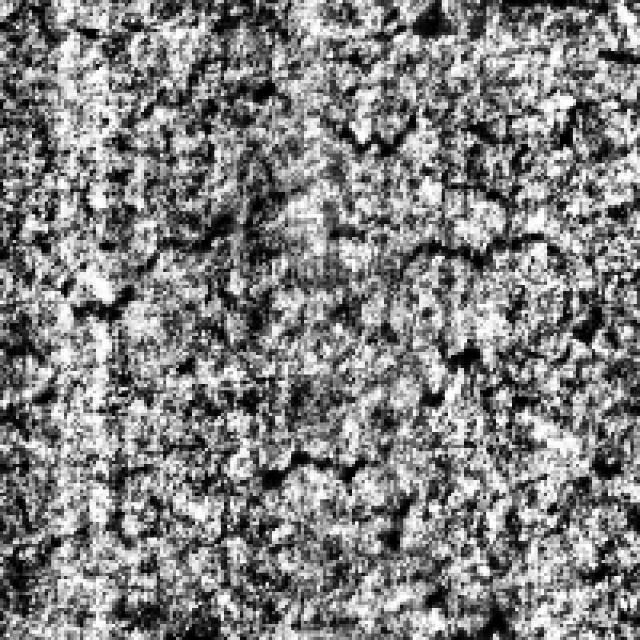Pitted_Surface: (51, 48, 410, 323), (247, 262, 586, 541)
